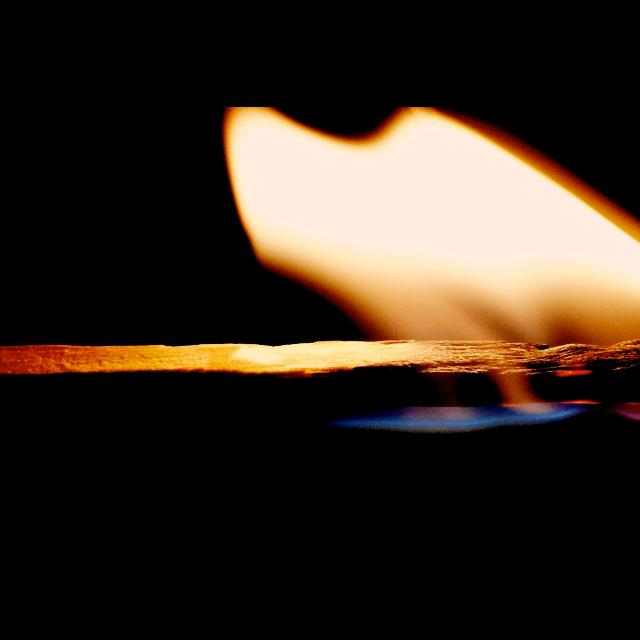fire: (225, 107, 640, 344)
